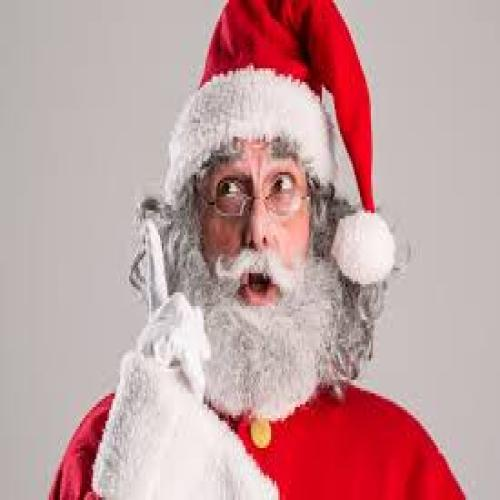Santa: (48, 3, 469, 500)
